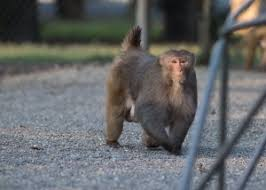monkey: (107, 26, 228, 165)
